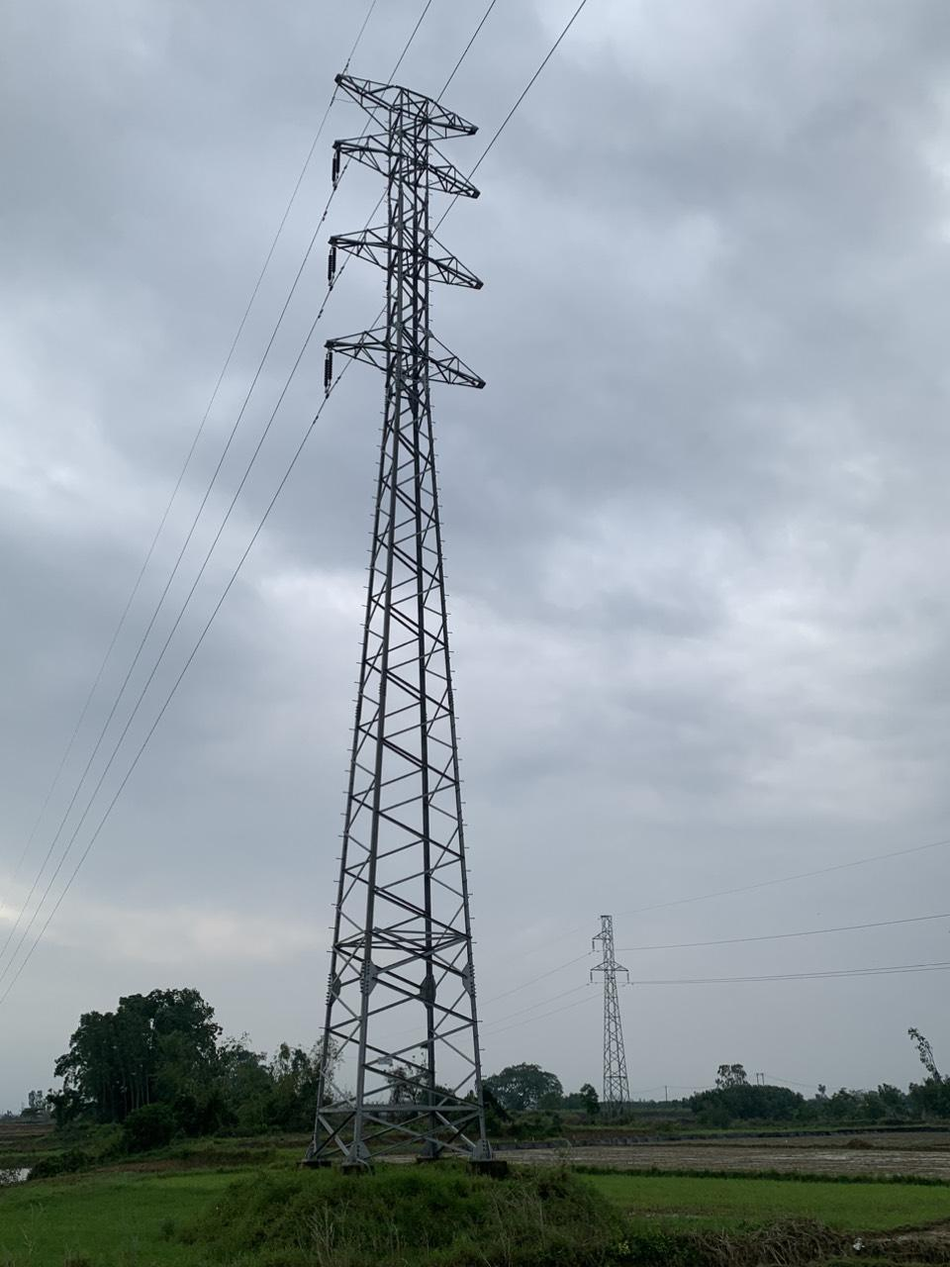power_tower: (307, 42, 505, 1178)
